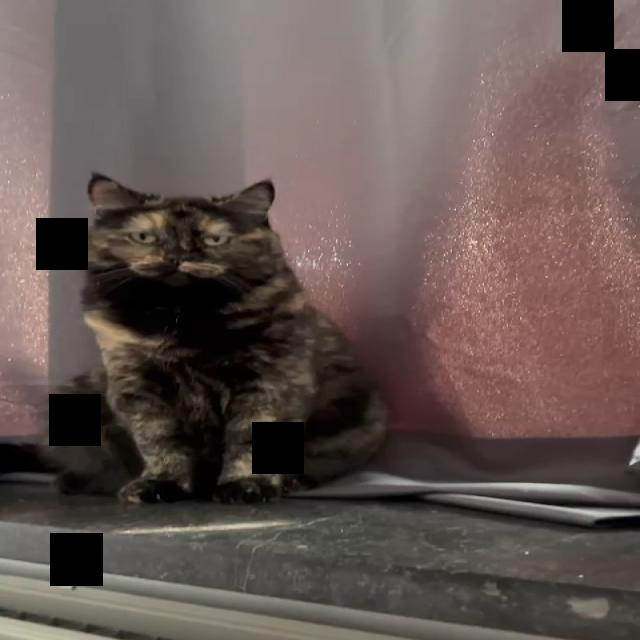authorized: (36, 170, 391, 505)
